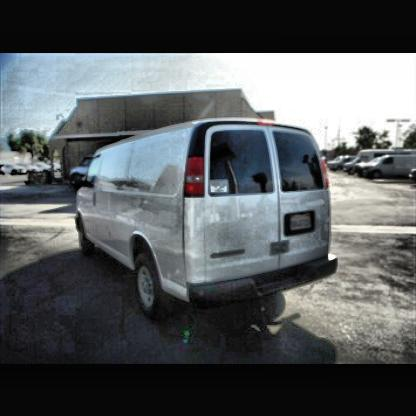Chevrolet Express Van 2007: (68, 115, 344, 329)
